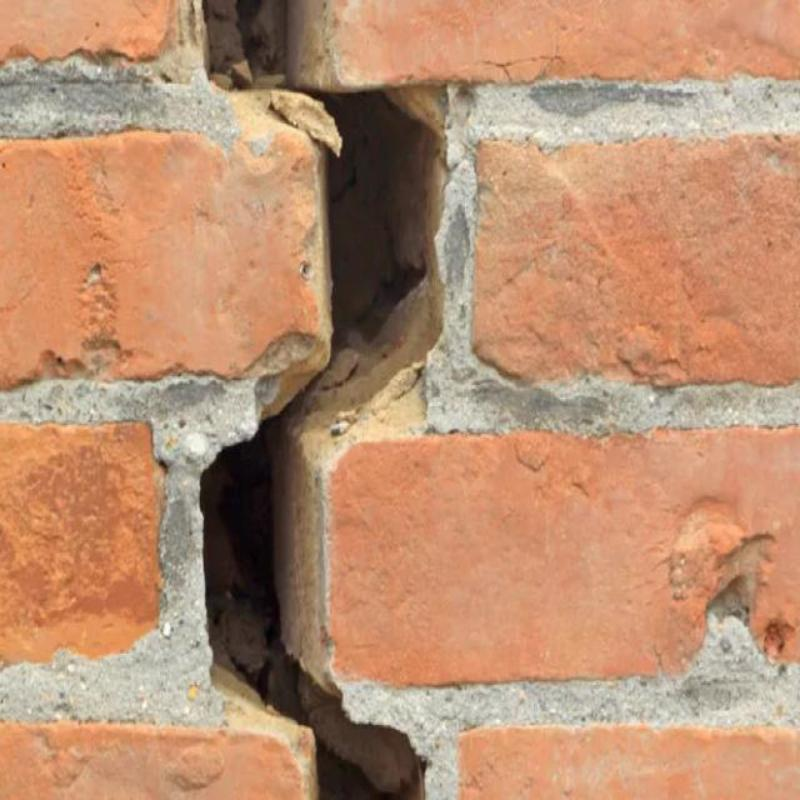crack: (201, 93, 429, 798), (204, 1, 286, 91)
